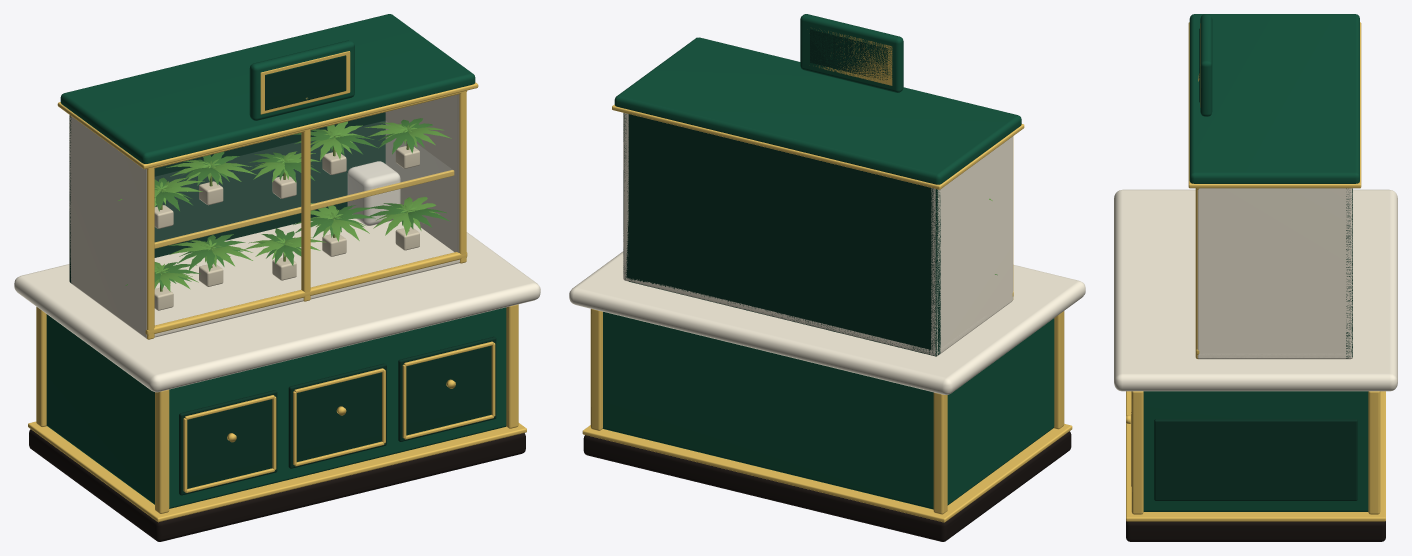
File: seeds_bench_founder.glb
3 renders of one model, left to right at view 1: azimuth 30°, elevation 25°; view 2: azimuth 150°, elevation 25°; view 3: azimuth 270°, elevation 25°, orthographic.
Parts seen in each view (by area): view 1: Body, Top, CabTop, CabSide-1, CabFloor, CabBack, Plinth, Panel2, Panel0, Panel1, CabSide1, PlinthBrass (+14 smaller); view 2: CabBack, Body, CabTop, Top, CabSide-1, Plinth, PlinthBrass, Crest, CrestInset, CabTopBand, CabFloor, Corner-11 (+4 smaller); view 3: Top, CabTop, CabSide1, EndPanel, Body, Plinth, PlinthBrass, Corner1-1, Corner11, CabTopBand, Crest, CabFloor (+2 smaller).
Part boxes in pixels (x1=…): Body: x1=46, y1=307, x2=506, y2=508; Top: x1=14, y1=232, x2=540, y2=392; CabTop: x1=60, y1=14, x2=475, y2=163; CabSide-1: x1=69, y1=115, x2=146, y2=338; CabFloor: x1=119, y1=218, x2=459, y2=338; CabBack: x1=69, y1=112, x2=385, y2=283; Plinth: x1=29, y1=429, x2=525, y2=541; Panel2: x1=398, y1=336, x2=496, y2=441; Panel0: x1=179, y1=390, x2=277, y2=495; Panel1: x1=288, y1=363, x2=386, y2=468; CabSide1: x1=385, y1=94, x2=459, y2=252; PlinthBrass: x1=28, y1=421, x2=526, y2=522; CabBack: x1=623, y1=113, x2=940, y2=356; Body: x1=603, y1=312, x2=1054, y2=509; CabTop: x1=614, y1=37, x2=1021, y2=184; Top: x1=569, y1=251, x2=1085, y2=394; CabSide-1: x1=931, y1=136, x2=1012, y2=355; Plinth: x1=583, y1=431, x2=1071, y2=541; PlinthBrass: x1=582, y1=424, x2=1072, y2=522; Crest: x1=800, y1=14, x2=903, y2=92; CrestInset: x1=810, y1=29, x2=887, y2=79; CabTopBand: x1=612, y1=104, x2=1024, y2=189; CabFloor: x1=623, y1=275, x2=1009, y2=356; Corner-11: x1=933, y1=392, x2=947, y2=514; Top: x1=1114, y1=189, x2=1397, y2=391; CabTop: x1=1189, y1=14, x2=1359, y2=183; CabSide1: x1=1197, y1=188, x2=1352, y2=359; EndPanel: x1=1154, y1=419, x2=1357, y2=500; Body: x1=1143, y1=391, x2=1368, y2=511; Plinth: x1=1126, y1=521, x2=1385, y2=541; PlinthBrass: x1=1126, y1=391, x2=1385, y2=521; Corner1-1: x1=1131, y1=391, x2=1143, y2=514; Corner11: x1=1368, y1=391, x2=1380, y2=514; CabTopBand: x1=1188, y1=22, x2=1361, y2=188; Crest: x1=1200, y1=14, x2=1212, y2=116; CabFloor: x1=1198, y1=353, x2=1352, y2=358.
Bounding box in the file's own units: 1.9 × 1.94 × 1.2.
